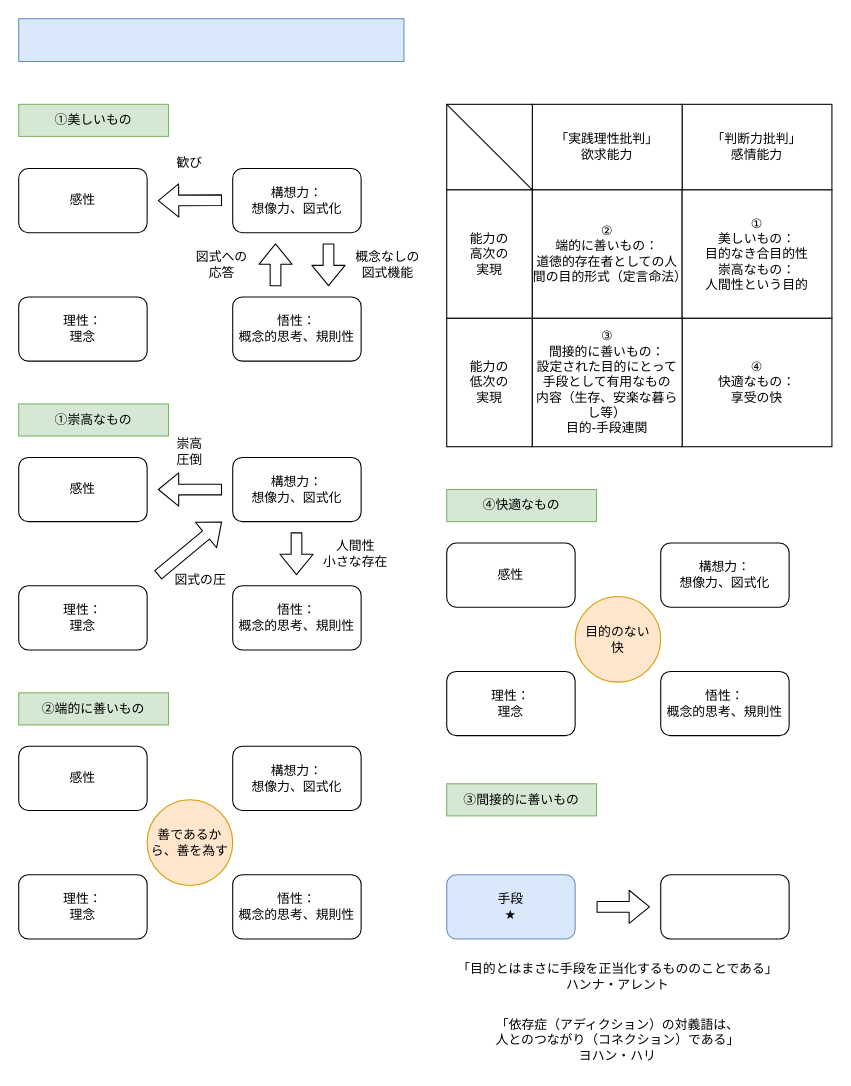
Some shapes in this 851 by 1086 pixel diagram are drawn without their labels. Here are the shapes that lost their labels. From the top down, the centre of each, then its label:
At [211,40]: "手段からの解放".
At [724,906]: "目的".
